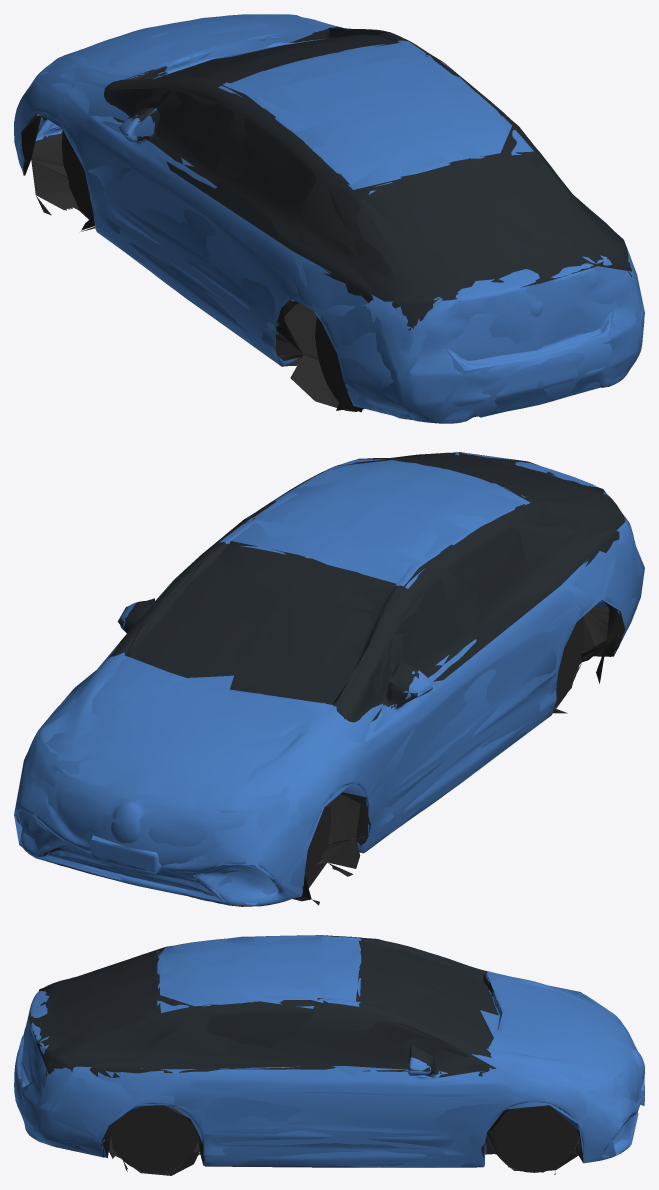
The model's file is mercedes-benz-eqe.glb.
3 views of the same model, one above another, from view 1: azimuth 30°, elevation 25°; view 2: azimuth 150°, elevation 25°; view 3: azimuth 270°, elevation 25° (orthographic). The views are drawn at different scales.
Visible parts, largest first — view 1: body, far; view 2: body, far; view 3: body, far.
Part boxes in pixels (bbox=[...]): body: bbox=[14, 14, 644, 423]; far: bbox=[14, 14, 644, 422]; body: bbox=[15, 452, 642, 906]; far: bbox=[14, 452, 644, 905]; body: bbox=[14, 935, 644, 1175]; far: bbox=[14, 935, 644, 1173].
Size of the model in its own units: 2.14 by 1.53 by 5.03.
